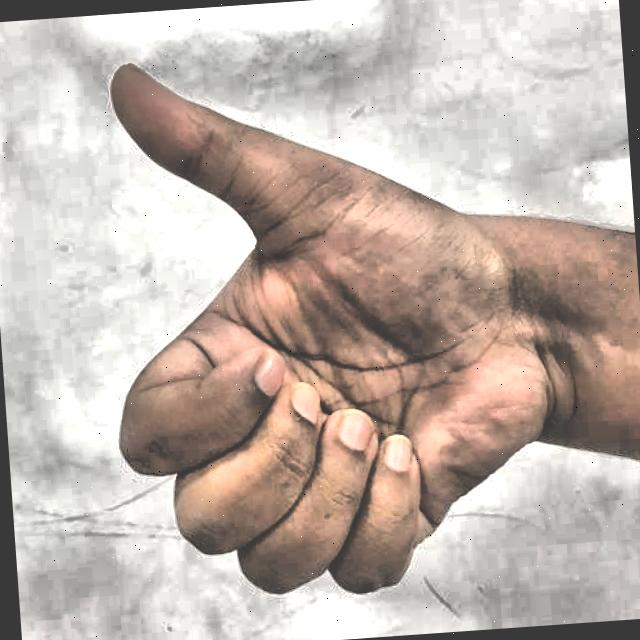Do: (69, 22, 578, 628)
